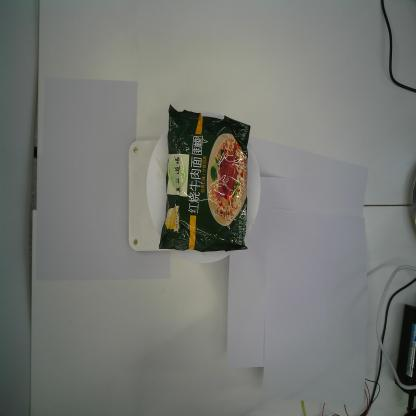Instant Noodles: (158, 101, 252, 253)
